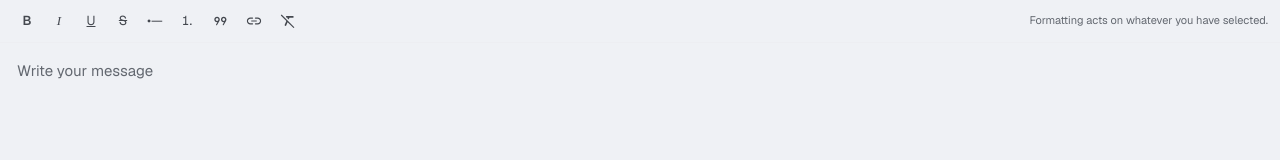
Test: WrittenMessage, the formatting bar › asks where a link goes before it makes one
The width and height of the screenshot is (1280, 160).
Click the button named "Insert a link" at x=254, y=21, box [238,6,270,36]
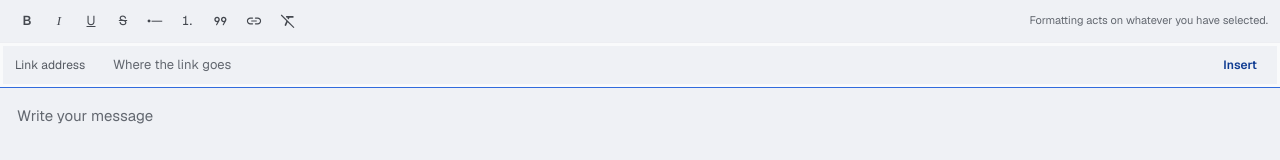
Expected: the field labelled "Link address" is shown, [113,55,1205,75]
